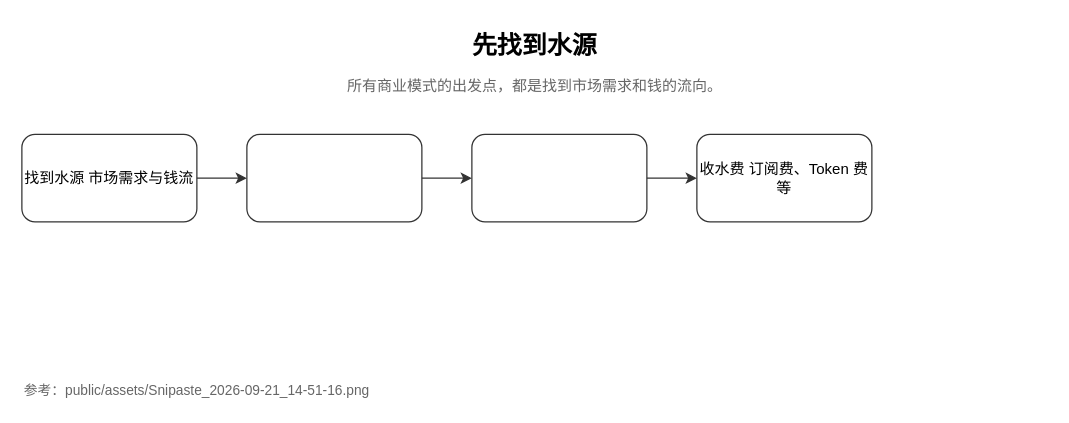
The diagram is 1069 pixels wide and 423 high, and some of its shapes have lost their labels. The shapes that lost their labels are listed below. From the top down, each one's centre as x and y in pixels, then its label:
the point at 334,177: 挖水井 先提供服务
the point at 559,177: 铺水管 做成标准化产品
